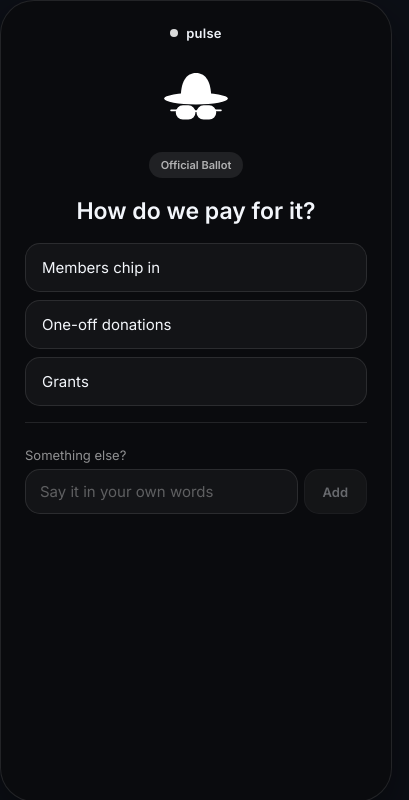
Test: asking › casts the answer that was pressed, by its position
Click the button "Grants" at (65, 382), box x1=25 y1=357 x2=367 y2=406
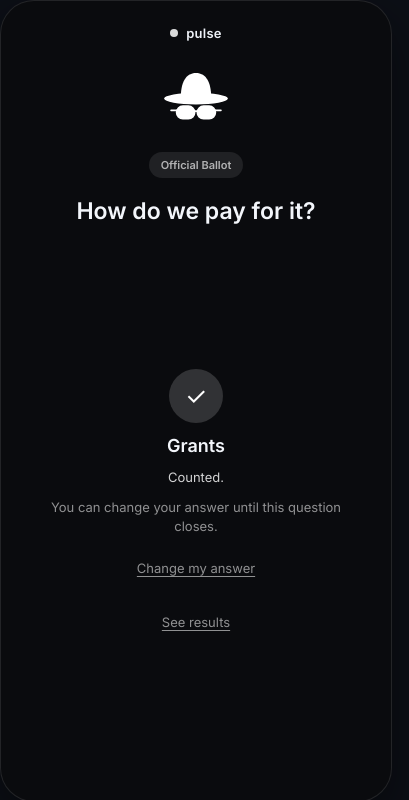
Now the message shows "Grants", box x1=167 y1=435 x2=225 y2=456
